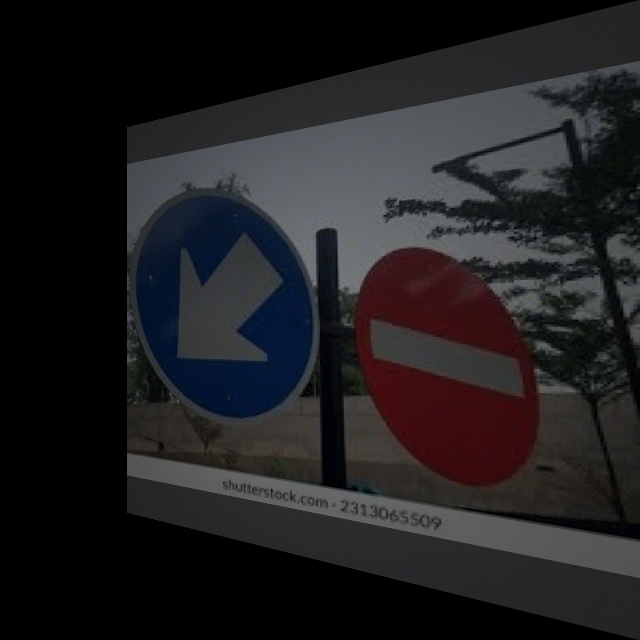Compulsory_Keep_Left: (133, 175, 325, 416)
